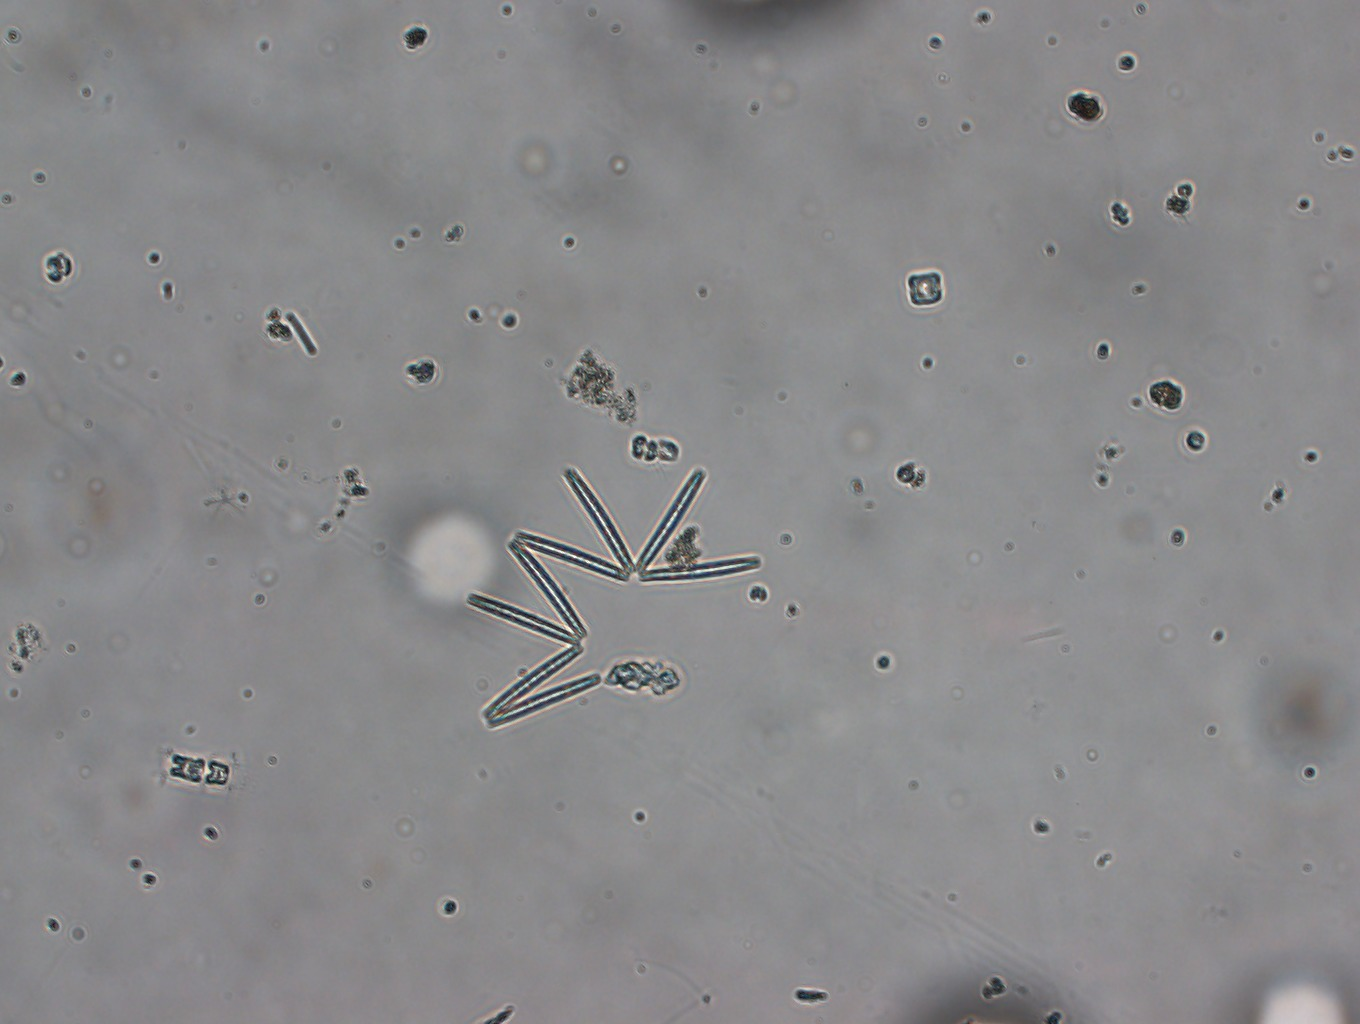thalassionema nitzschioides: (461, 454, 764, 736)
